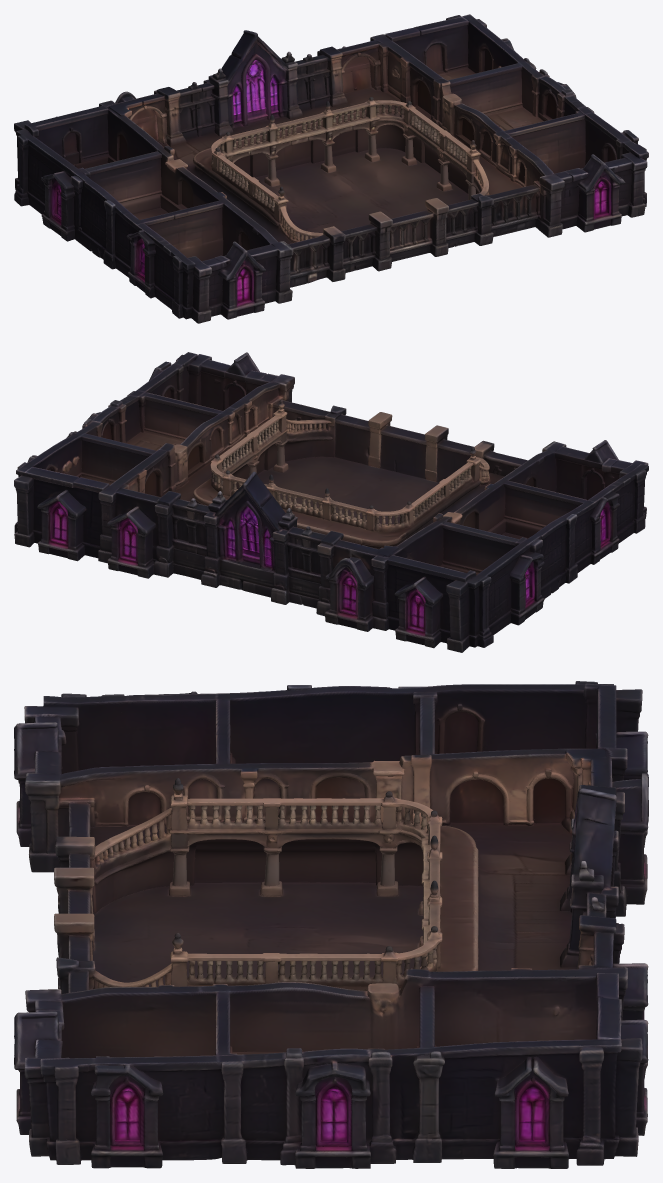
File: second-floorl.glb
3 renders of one model, top to bottom at view 1: azimuth 30°, elevation 25°; view 2: azimuth 150°, elevation 25°; view 3: azimuth 270°, elevation 25°, orthographic. The views are drawn at different scales.
Parts seen in each view (by area): view 1: model; view 2: model; view 3: model.
Boxes of the visible parts, x1,y1,x2,y2 form: model: (14, 14, 648, 323); model: (14, 352, 648, 652); model: (14, 681, 648, 1168).
Size of the model in its own units: 1.9 by 0.4336 by 1.32.
1 material, 1 textured.
